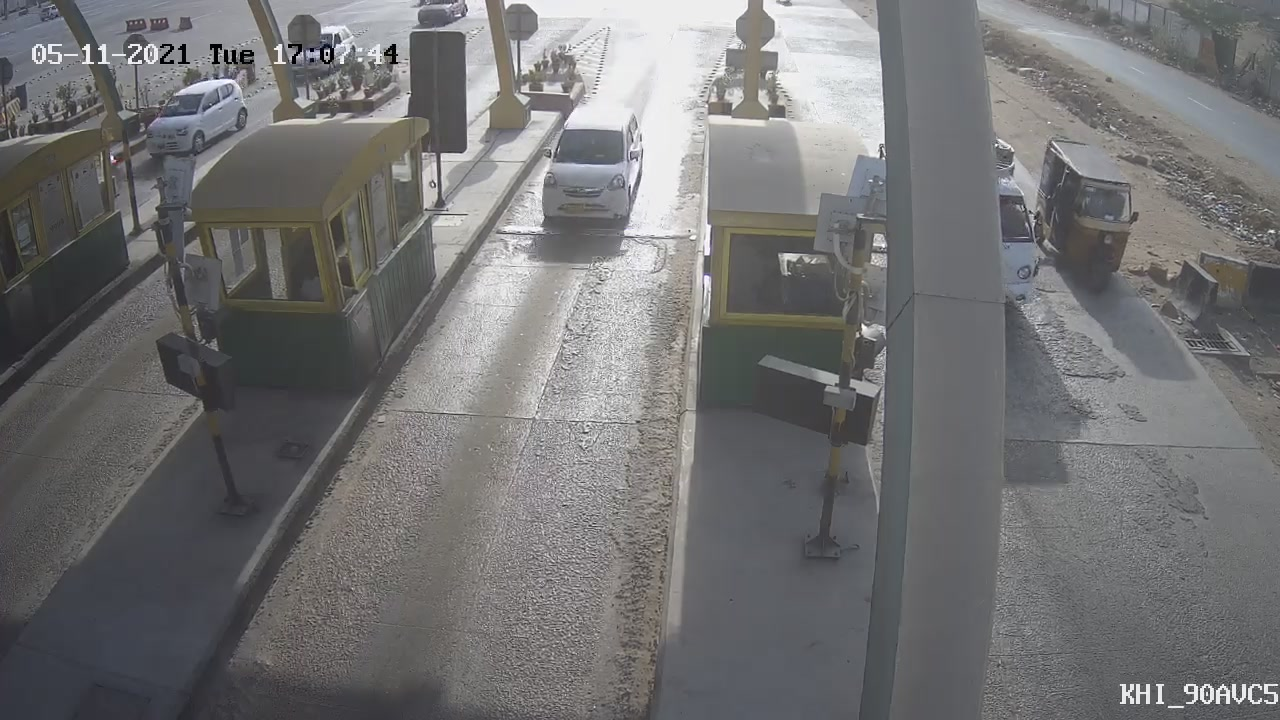F1: (520, 88, 659, 240)
